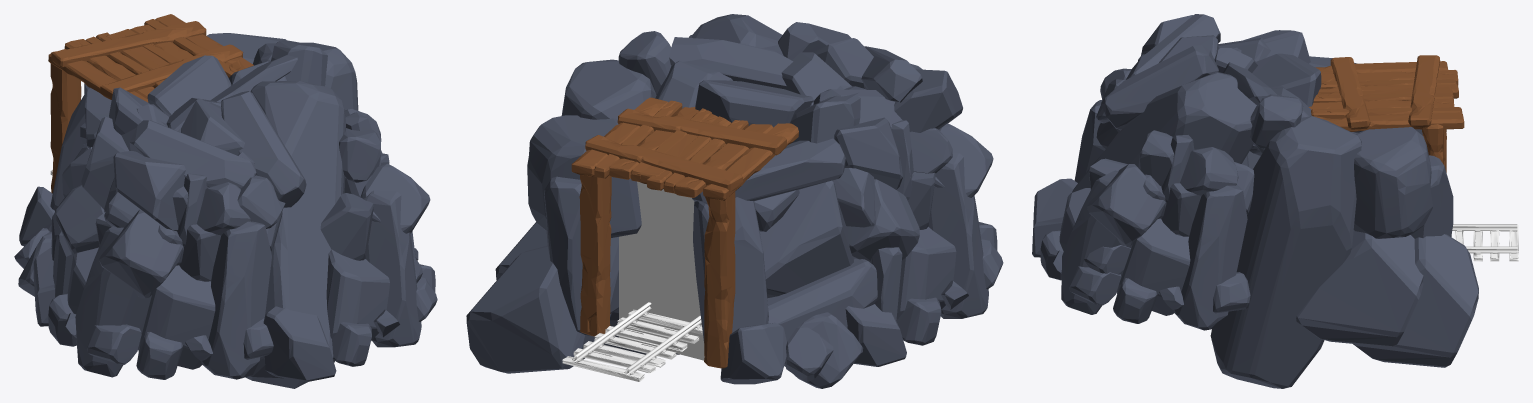
Rendered from Mine2.fbx.
The picture shows the model from 3 angles, left to right: view 1: azimuth 30°, elevation 25°; view 2: azimuth 150°, elevation 25°; view 3: azimuth 270°, elevation 25°; orthographic projection. The views are drawn at different scales.
Visible parts, largest first — view 1: Cube, Wood; view 2: Cube, Wood, Plane, Wood.001, IronPart; view 3: Cube, Wood, Wood.001, IronPart.
Boxes of the visible parts, left/top/right/bottom form: Cube: left=14, top=33, right=437, bottom=388; Wood: left=48, top=14, right=253, bottom=193; Cube: left=466, top=14, right=1003, bottom=388; Wood: left=571, top=97, right=798, bottom=368; Plane: left=619, top=181, right=704, bottom=360; Wood.001: left=562, top=309, right=702, bottom=381; IronPart: left=573, top=302, right=701, bottom=374; Cube: left=1032, top=14, right=1478, bottom=388; Wood: left=1309, top=55, right=1464, bottom=172; Wood.001: left=1454, top=225, right=1518, bottom=261; IronPart: left=1452, top=224, right=1517, bottom=253.
Size of the model in its own units: 1060 by 903 by 1393.
